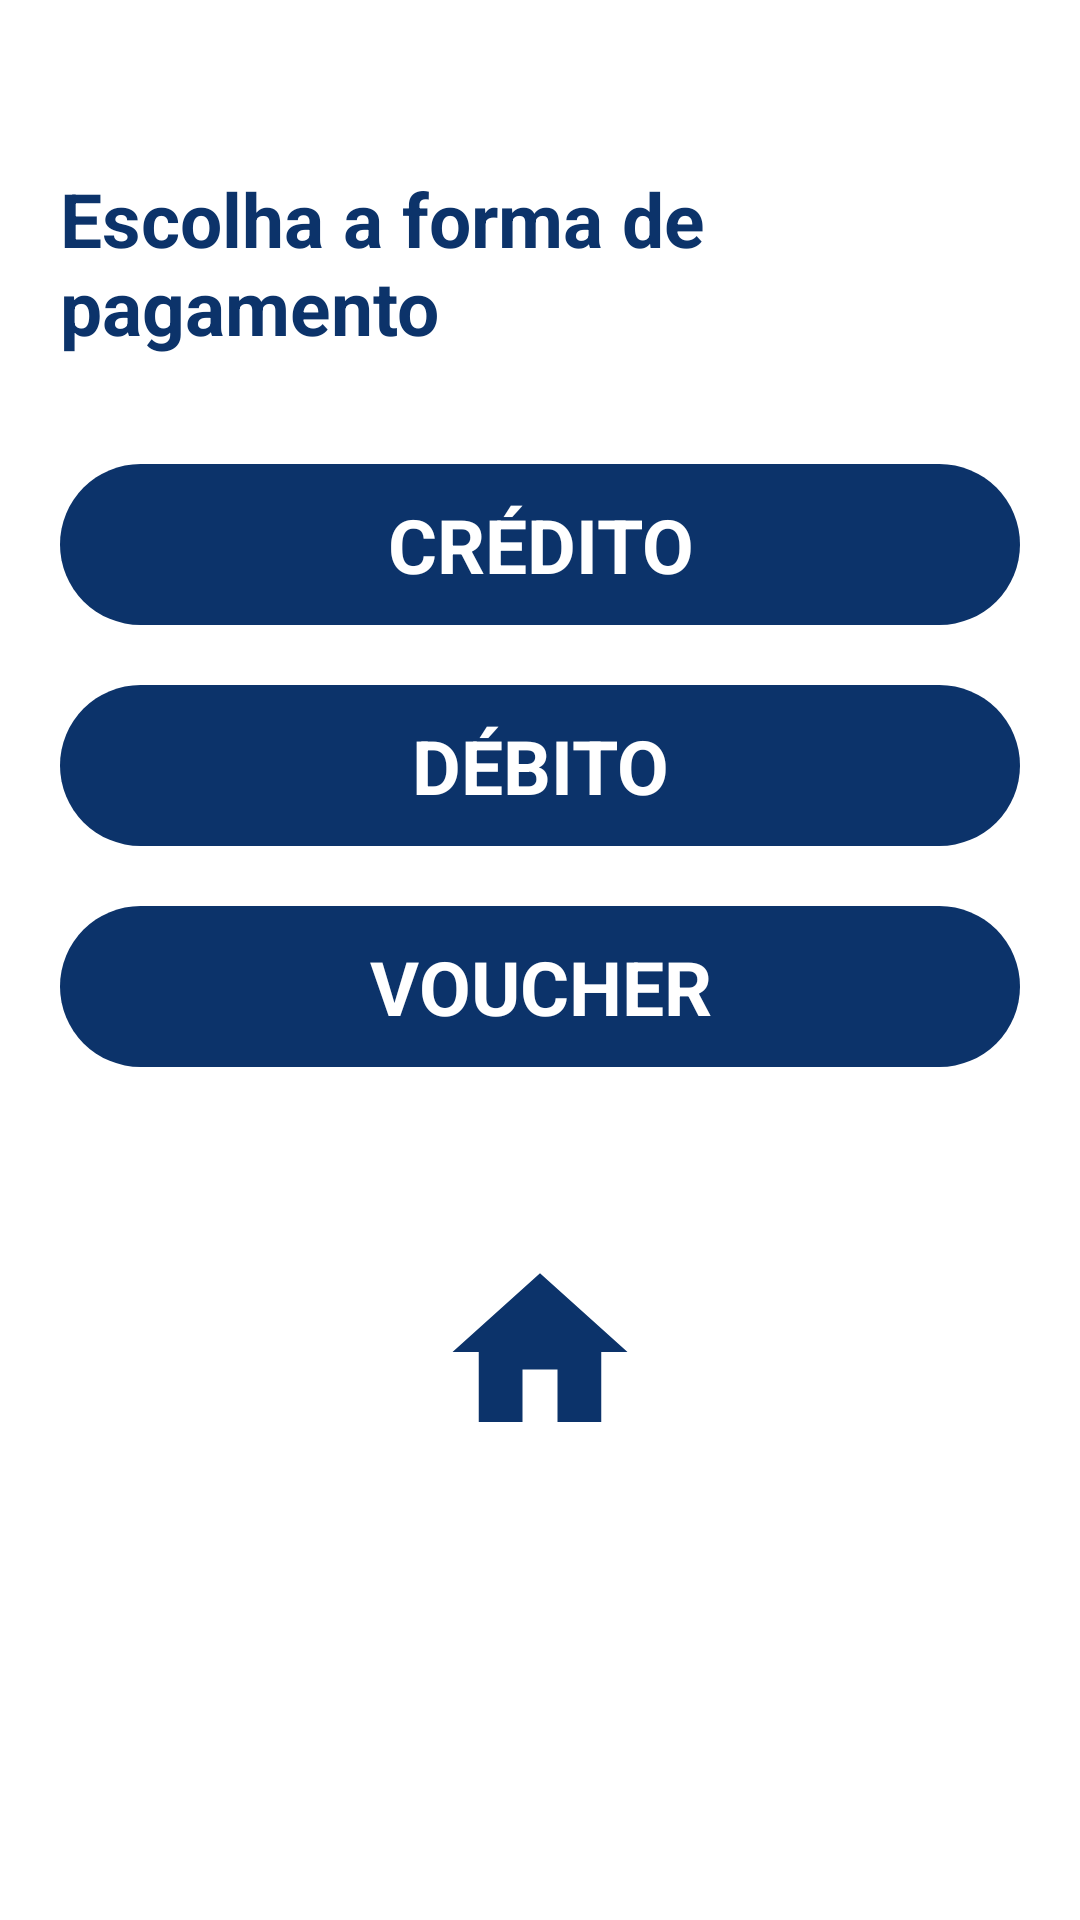

Icon bounding boxes for this 1080 x 1920 phone screenshot, format (x1, y1, x2, y2):
home: (453, 1273, 627, 1422)
